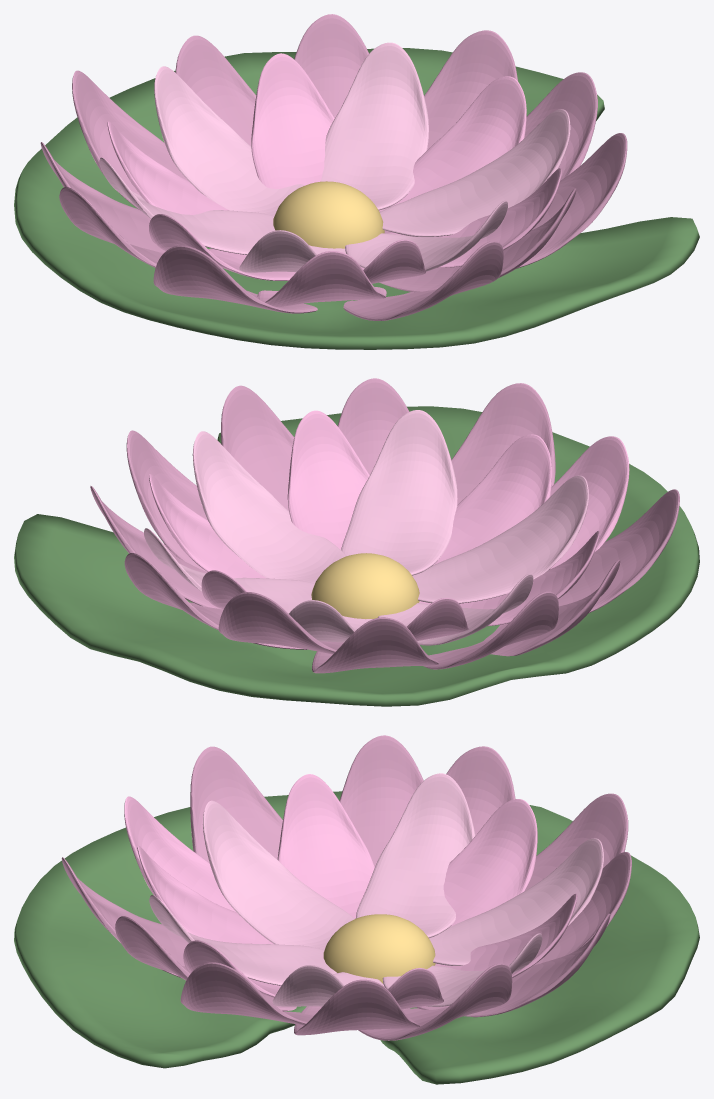
File: waterlily.fbx
The picture shows the model from 3 angles, top to bottom: view 1: azimuth 30°, elevation 25°; view 2: azimuth 150°, elevation 25°; view 3: azimuth 270°, elevation 25°; orthographic projection.
Visible parts, largest first — view 1: Circle, Plane.023, Plane.022, Plane.018, Plane.012, Plane.017, Sphere, Plane.005, Plane.004, Plane.010, Plane, Plane.011 (+14 smaller); view 2: Circle, Plane.019, Plane.018, Plane.020, Plane.016, Plane.015, Plane.003, Plane.004, Plane.002, Sphere, Plane.008, Plane.010 (+14 smaller); view 3: Circle, Plane.021, Plane.020, Plane.014, Plane.013, Plane.022, Plane.009, Sphere, Plane.002, Plane.008, Plane.015, Plane.006 (+14 smaller).
Boxes of the visible parts, box(x1,y1,x2,y2) form: Circle: box(14, 48, 699, 349); Plane.023: box(321, 42, 428, 210); Plane.022: box(154, 66, 304, 215); Plane.018: box(379, 109, 570, 236); Plane.012: box(251, 53, 334, 188); Plane.017: box(379, 76, 526, 211); Sphere: box(273, 181, 384, 248); Plane.005: box(424, 30, 517, 149); Plane.004: box(516, 133, 627, 268); Plane.010: box(72, 70, 187, 210); Plane: box(175, 35, 256, 146); Plane.011: box(294, 14, 368, 117); Circle: box(14, 406, 699, 706); Plane.019: box(341, 410, 457, 575); Plane.018: box(192, 431, 346, 583); Plane.020: box(412, 475, 588, 603); Plane.016: box(287, 410, 369, 549); Plane.015: box(432, 434, 551, 565); Plane.003: box(451, 383, 555, 504); Plane.004: box(221, 385, 294, 510); Plane.002: box(558, 489, 679, 612); Sphere: box(311, 553, 419, 619); Plane.008: box(550, 436, 629, 568); Plane.010: box(312, 617, 438, 673); Circle: box(14, 791, 699, 1084); Plane.021: box(355, 773, 475, 937); Plane.020: box(203, 800, 354, 949); Plane.014: box(277, 774, 374, 918); Plane.013: box(443, 799, 537, 927); Plane.022: box(429, 838, 603, 965); Plane.009: box(339, 735, 423, 866); Sphere: box(323, 914, 435, 983); Plane.002: box(190, 746, 282, 862); Plane.008: box(124, 796, 235, 911); Plane.015: box(137, 845, 273, 944); Plane.006: box(294, 979, 420, 1035).
Bounding box in the file's own units: 1182 × 243 × 1209.
